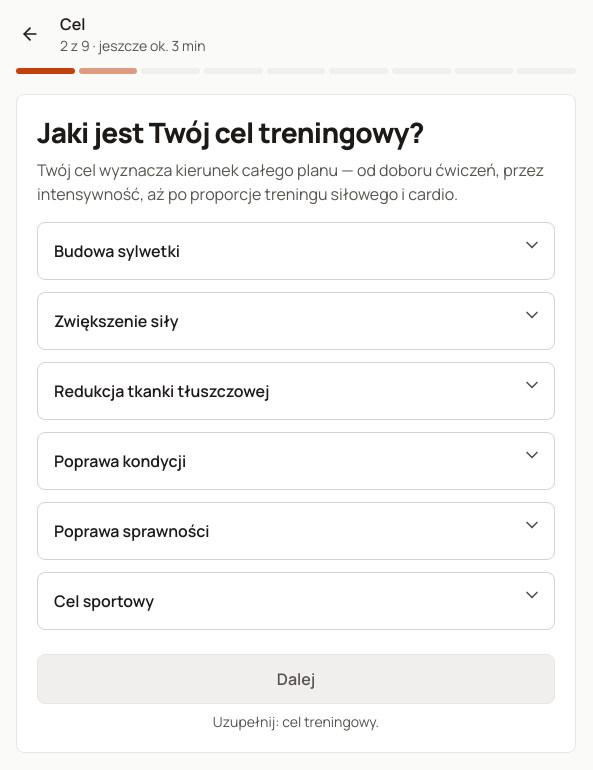
cardio: no instant advance, silent 20 s countdown cancelled by any interaction (23.10) › other single-choice questions keep the short auto-advance
Click the radio button labelled "Budowa sylwetki". click: (117, 251)
box: [54, 240, 180, 262]
Wait 350 ms
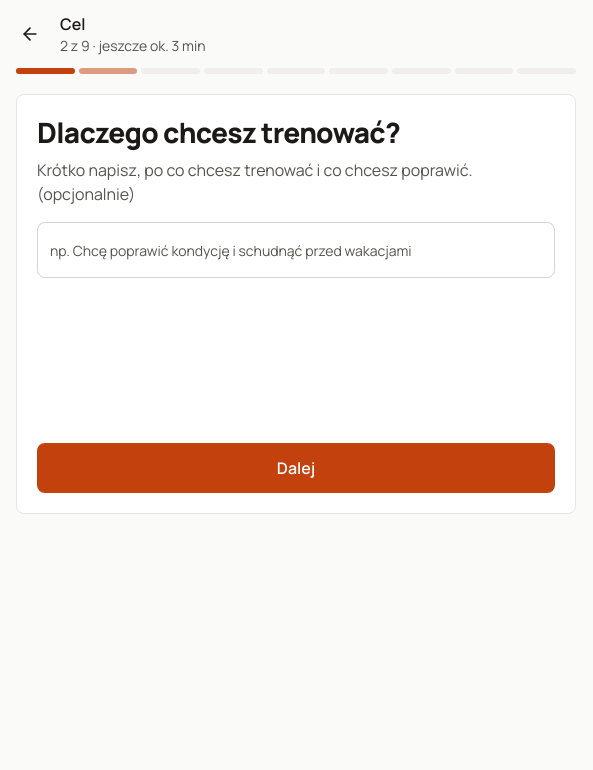
Now the heading with test id "question" reads "Dlaczego chcesz trenować?", box [37, 113, 400, 151]
